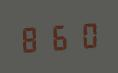eight: (18, 22, 44, 53)
six: (46, 20, 72, 52)
zero: (73, 19, 99, 50)
